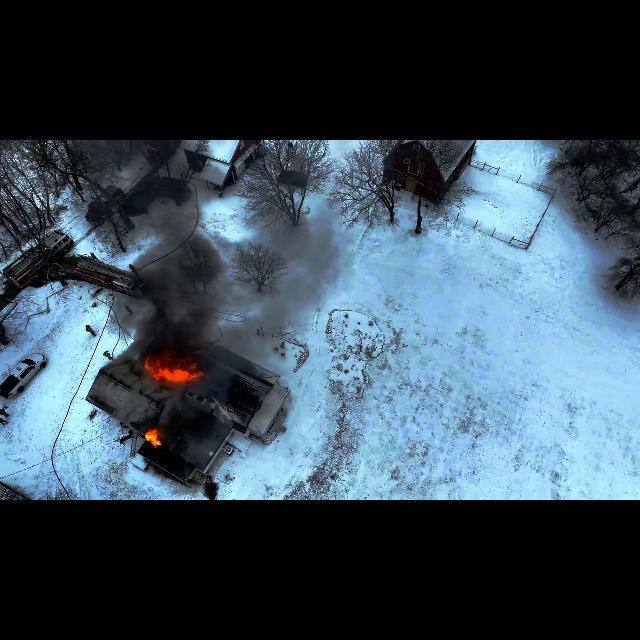Fire: (144, 343, 200, 385), (139, 422, 161, 444)
Smoke: (142, 270, 212, 330)
